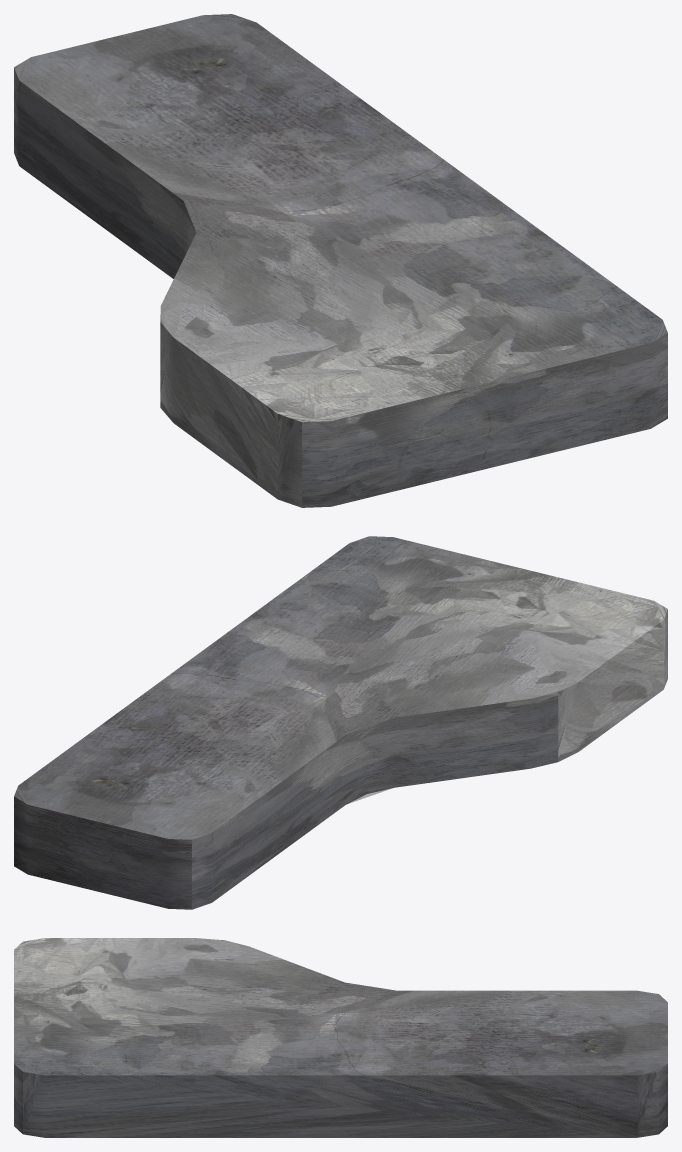
The model's file is CardBoard.fbx.
3 renders of one model, top to bottom at view 1: azimuth 30°, elevation 25°; view 2: azimuth 150°, elevation 25°; view 3: azimuth 270°, elevation 25°, orthographic. The views are drawn at different scales.
Parts seen in each view (by area): view 1: pCube3; view 2: pCube3; view 3: pCube3.
Boxes of the visible parts, x1,y1,x2,y2 form: pCube3: [14, 14, 667, 507]; pCube3: [14, 536, 667, 909]; pCube3: [14, 938, 667, 1137].
Size of the model in its own units: 4.55 by 0.9684 by 9.17.
1 material, 1 textured.
